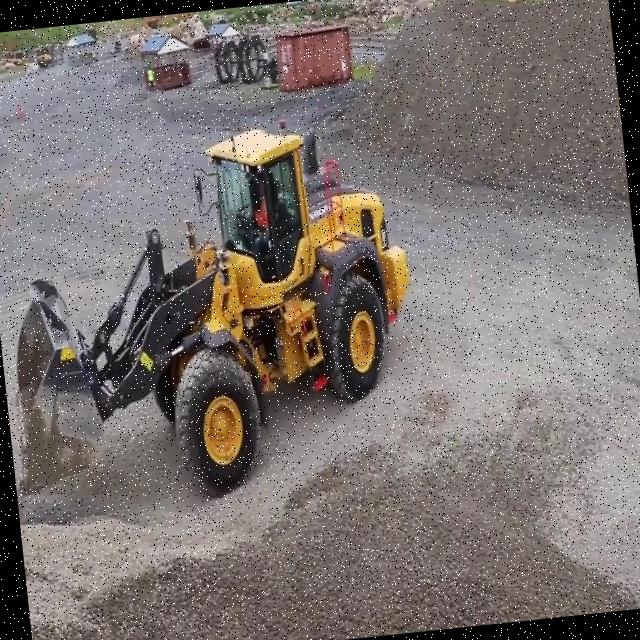Excavator: (549, 0, 576, 11)
Loader: (0, 107, 429, 520)
